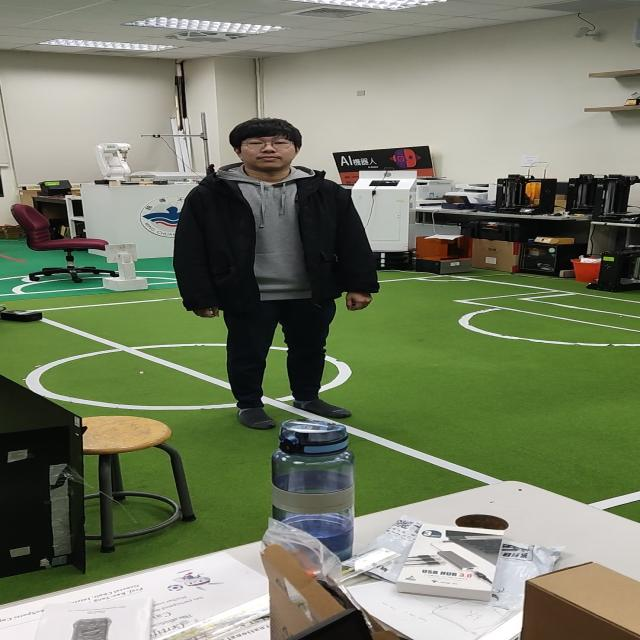person: (164, 108, 371, 432)
